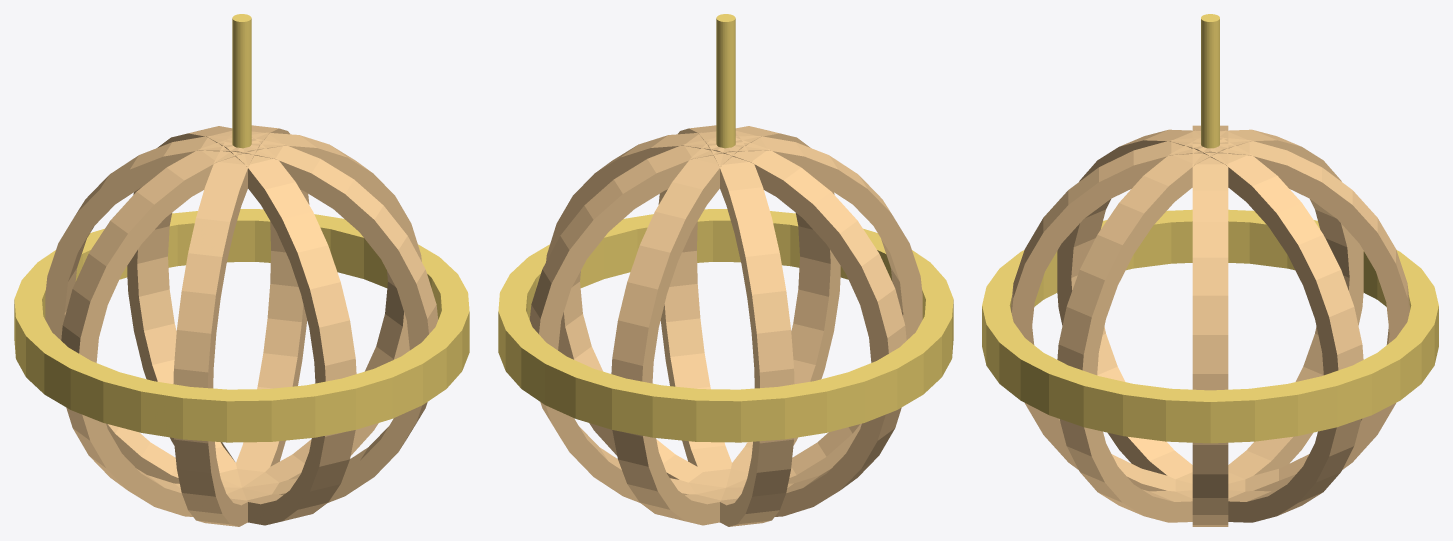
The model's file is chand_3.fbx.
3 renders of one model, left to right at view 1: azimuth 30°, elevation 25°; view 2: azimuth 150°, elevation 25°; view 3: azimuth 270°, elevation 25°, orthographic.
Visible parts, largest first — view 1: VETRO, GOLD; view 2: VETRO, GOLD; view 3: VETRO, GOLD.
Part boxes in pixels (left/top/right/bottom): VETRO: left=45, top=125, right=438, bottom=526; GOLD: left=14, top=14, right=469, bottom=442; VETRO: left=529, top=125, right=922, bottom=526; GOLD: left=498, top=14, right=953, bottom=442; VETRO: left=1011, top=125, right=1409, bottom=526; GOLD: left=982, top=14, right=1438, bottom=443.
Size of the model in its own units: 227 by 269 by 227.
